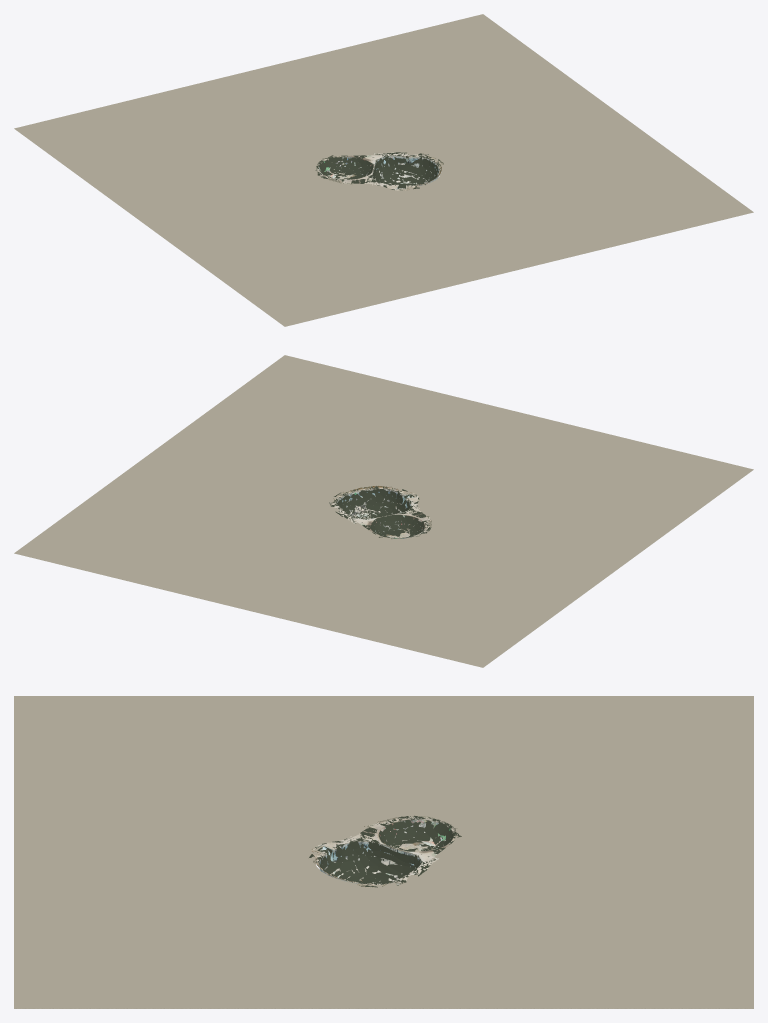
Rendered from pool.glb.
The picture shows the model from 3 angles, top to bottom: view 1: azimuth 30°, elevation 25°; view 2: azimuth 150°, elevation 25°; view 3: azimuth 270°, elevation 25°; orthographic projection. The views are drawn at different scales.
Parts seen in each view (by area): view 1: COL_Ground, COL_Pool; view 2: COL_Ground, COL_Pool; view 3: COL_Ground, COL_Pool, ENV_Concrete_ground@q#0, ENV_Scan_arpex@q033333#2, ENV_Scan_arpex@q211111#2, ENV_Scan_arpex@q033333#0.
Boxes of the visible parts, x1,y1,x2,y2 form: COL_Ground: (14,14,753,326); COL_Pool: (315,152,443,190); COL_Ground: (14,355,753,667); COL_Pool: (329,486,431,538); COL_Ground: (14,696,753,1008); COL_Pool: (309,815,461,887); ENV_Concrete_ground@q#0: (14,847,753,1008); ENV_Scan_arpex@q033333#2: (383,816,460,875); ENV_Scan_arpex@q211111#2: (311,821,383,880); ENV_Scan_arpex@q033333#0: (384,815,461,874).
Size of the model in its own units: 60 by 3.48 by 60.
2 materials, 2 textured.
